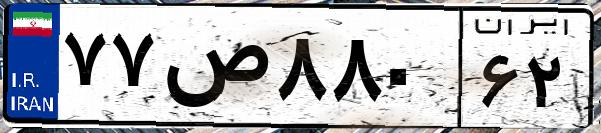0: (385, 28, 445, 110)
2: (525, 38, 570, 115)
6: (475, 38, 525, 113)
7: (57, 26, 110, 100), (110, 28, 158, 98)
8: (270, 28, 330, 110), (330, 28, 385, 110)
ص: (158, 20, 270, 120)
